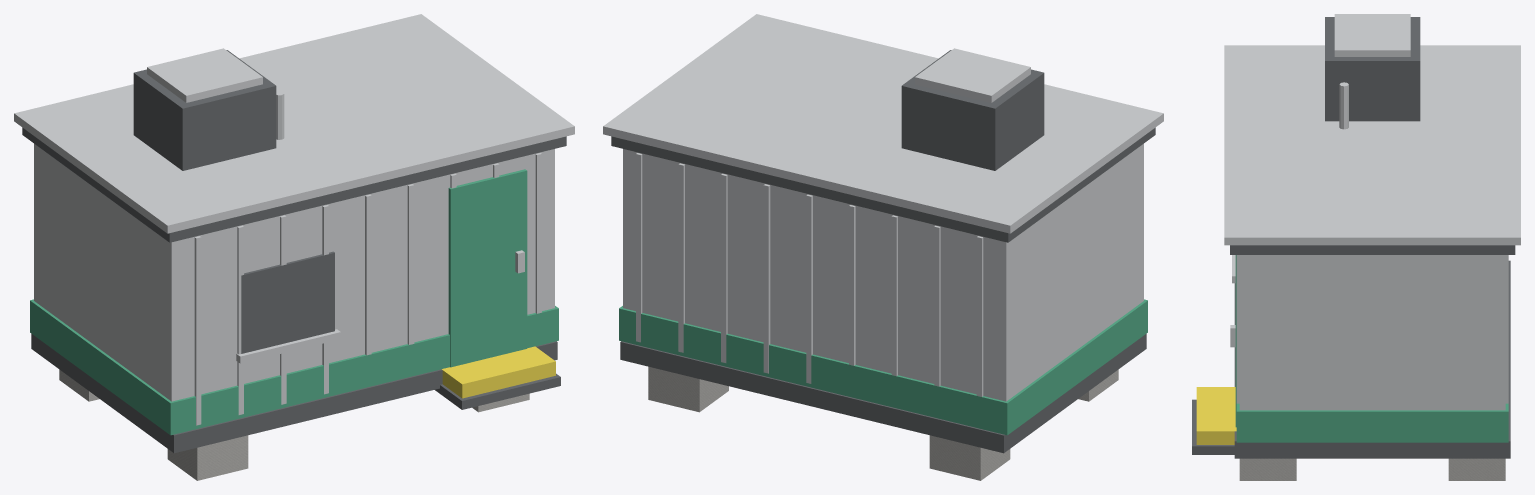
The model's file is recycling-and-waste-transfer-yard-recycling-and-waste--e108281f__34923.glb.
3 renders of one model, left to right at view 1: azimuth 30°, elevation 25°; view 2: azimuth 150°, elevation 25°; view 3: azimuth 270°, elevation 25°, orthographic. The views are drawn at different scales.
Visible parts, largest first — view 1: recycling-and-waste-transfer-yard-staff-welfare-cabin; view 2: recycling-and-waste-transfer-yard-staff-welfare-cabin; view 3: recycling-and-waste-transfer-yard-staff-welfare-cabin.
Part boxes in pixels (x1,y1,x2,y2): recycling-and-waste-transfer-yard-staff-welfare-cabin: (14, 14, 574, 480); recycling-and-waste-transfer-yard-staff-welfare-cabin: (603, 14, 1163, 480); recycling-and-waste-transfer-yard-staff-welfare-cabin: (1192, 14, 1520, 480).
Size of the model in its own units: 4.78 by 3.81 by 3.46.
5 materials, 1 textured.
